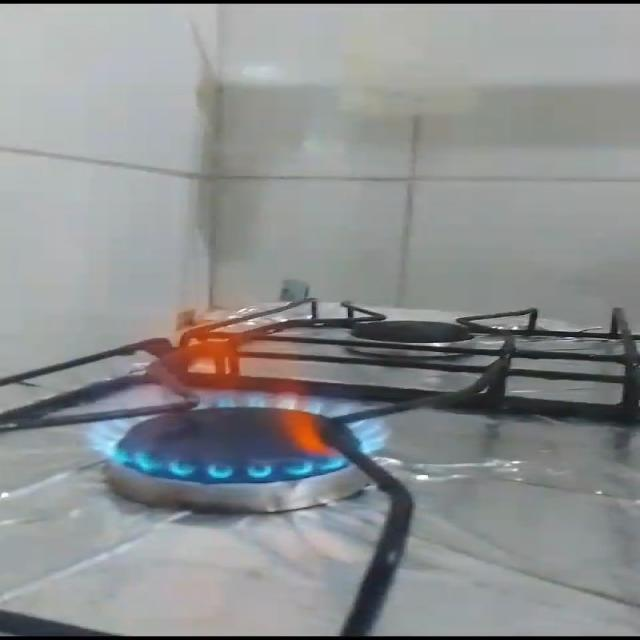fogo-ypXI: (80, 292, 396, 485)
